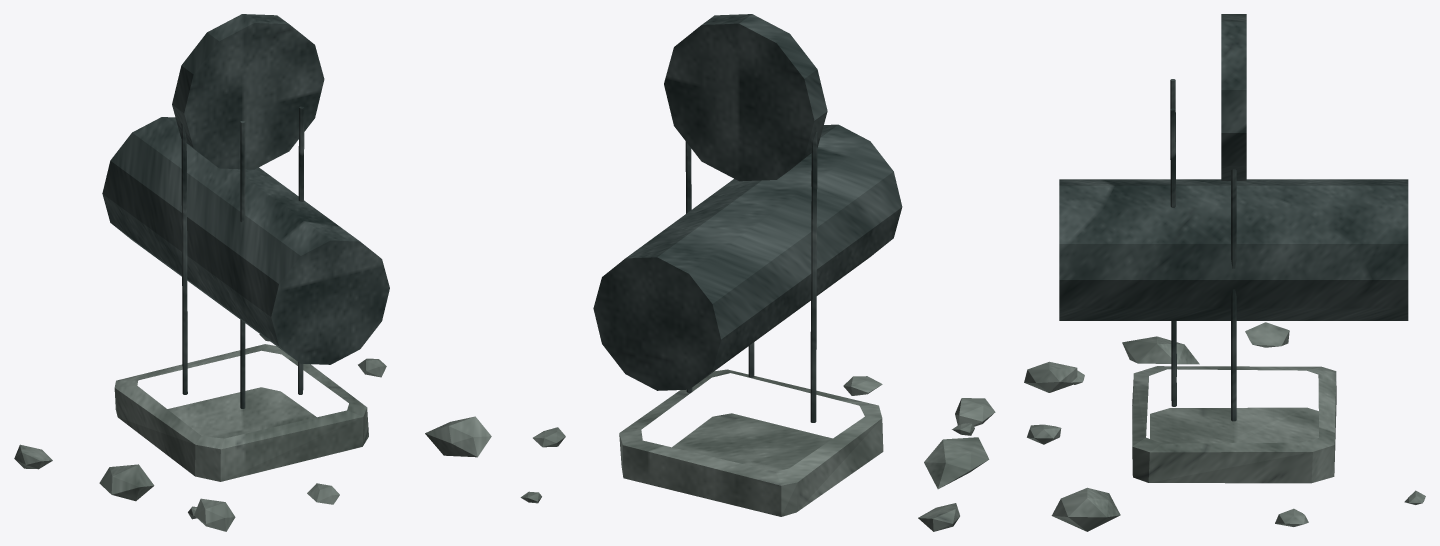
File: 0263_broken_column_13.glb
3 renders of one model, left to right at view 1: azimuth 30°, elevation 25°; view 2: azimuth 150°, elevation 25°; view 3: azimuth 270°, elevation 25°, orthographic. The views are drawn at different scales.
Visible parts, largest first — view 1: stone_dark, stone; view 2: stone_dark, stone; view 3: stone_dark, stone.
Part boxes in pixels (left/top/right/bottom): stone_dark: left=102, top=14, right=389, bottom=408; stone: left=14, top=334, right=491, bottom=531; stone_dark: left=593, top=14, right=902, bottom=422; stone: left=520, top=369, right=995, bottom=531; stone_dark: left=1059, top=14, right=1408, bottom=421; stone: left=1024, top=322, right=1425, bottom=531.
Bounding box in the file's own units: 2.67 × 2.81 × 2.38.
2 materials, 2 textured.
